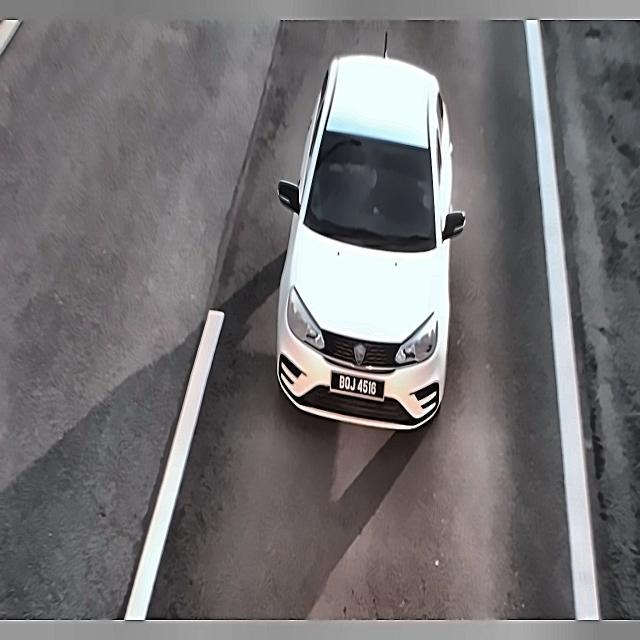car: (325, 368, 390, 406)
